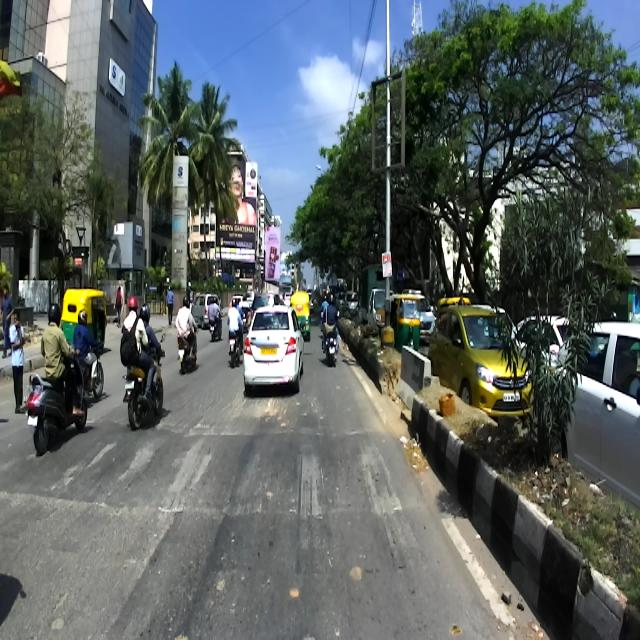car ahead at: (236, 298, 308, 406)
motorcycle ahead at: (118, 354, 173, 438)
